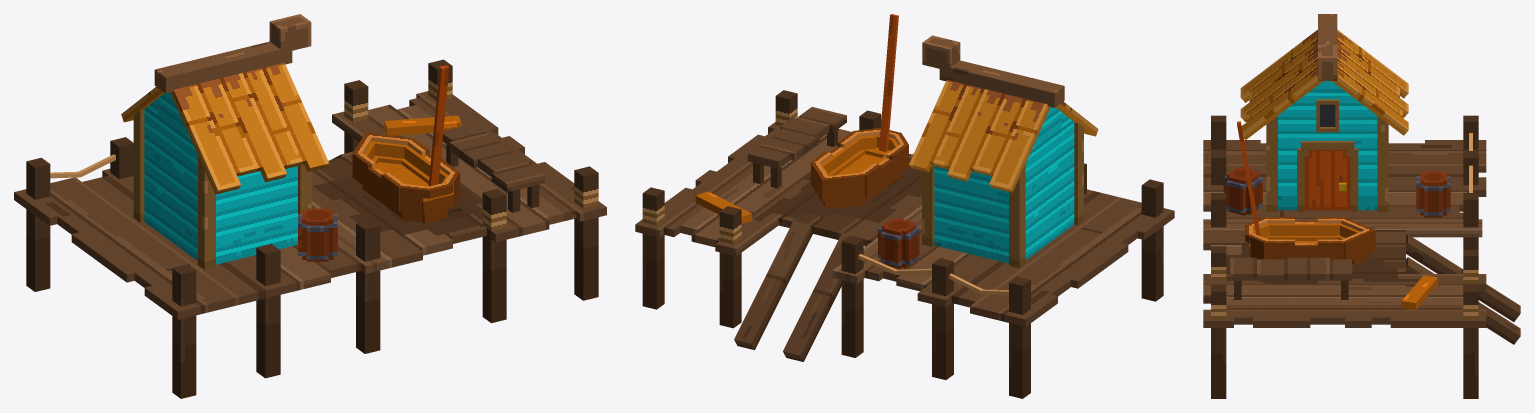
File: b_shipwright.gltf
3 renders of one model, left to right at view 1: azimuth 30°, elevation 25°; view 2: azimuth 150°, elevation 25°; view 3: azimuth 270°, elevation 25°, orthographic. The views are drawn at different scales.
Parts seen in each view (by area): view 1: shipwright-Local, House-Local, Roof02-Local, Roof-Local, ship_hull-Local, box031-Local, ship_bow-Local, mast_main-Local, ship_hull_stern-Local, Wood02-Local; view 2: shipwright-Local, House-Local, Roof01-Local, shipwright02-Local, Roof-Local, ship_hull-Local, box03-Local, ship_bow-Local, mast_main-Local, ship_hull_stern-Local, Wood02-Local, Roof02-Local; view 3: shipwright-Local, House-Local, Roof02-Local, Roof01-Local, ship_hull-Local, shipwright02-Local, box03-Local, box031-Local, Roof-Local, ship_bow-Local, Wood02-Local, ship_hull_stern-Local (+1 smaller).
Part boxes in pixels (x1,y1,x2,y2): shipwright-Local: (14,59,606,398); House-Local: (133,92,311,269); Roof02-Local: (170,62,329,194); Roof-Local: (154,14,311,93); ship_hull-Local: (352,138,460,223); box031-Local: (298,208,337,261); ship_bow-Local: (353,132,412,189); mast_main-Local: (428,65,449,186); ship_hull_stern-Local: (400,172,459,221); Wood02-Local: (384,115,461,135); shipwright-Local: (635,90,1174,398); House-Local: (922,107,1083,267); Roof01-Local: (909,80,1050,192); shipwright02-Local: (734,221,859,361); Roof-Local: (922,35,1064,107); ship_hull-Local: (811,129,908,203); box03-Local: (878,218,919,268); ship_bow-Local: (811,161,864,208); mast_main-Local: (879,14,898,151); ship_hull_stern-Local: (854,128,908,177); Wood02-Local: (695,191,751,223); Roof02-Local: (1056,101,1098,136); shipwright-Local: (1203,115,1486,398); House-Local: (1266,81,1388,211); Roof02-Local: (1240,29,1322,139); Roof01-Local: (1332,29,1408,135); ship_hull-Local: (1245,217,1344,259); shipwright02-Local: (1406,234,1520,344); box03-Local: (1416,171,1450,217); box031-Local: (1223,167,1262,215); Roof-Local: (1318,14,1337,80); ship_bow-Local: (1335,217,1375,266); Wood02-Local: (1401,275,1437,309); ship_hull_stern-Local: (1245,217,1271,259).
Bounding box in the file's own units: 112 × 71 × 82.98.
17 materials, 17 textured.
